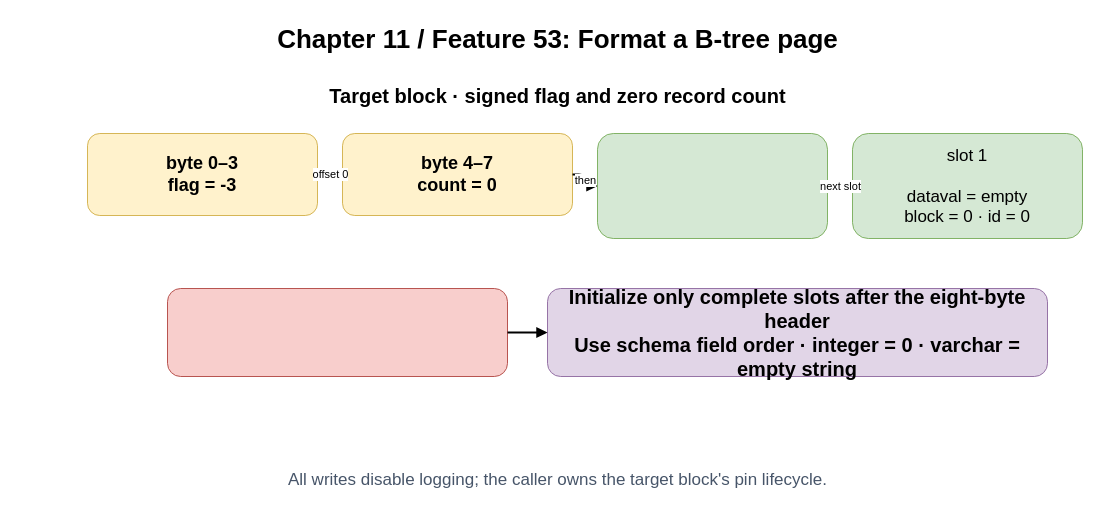
Image size: 1114x520. Some labels were removed from this diagram. The shapes that lost their labels are listed below. From the top down, each one's box as (x1, y1, x2, y2) in pixels, then its label:
(596, 132, 828, 238): slot 0 dataval = empty block = 0 · id = 0
(166, 288, 508, 376): unused partial tail not initialized as a record
